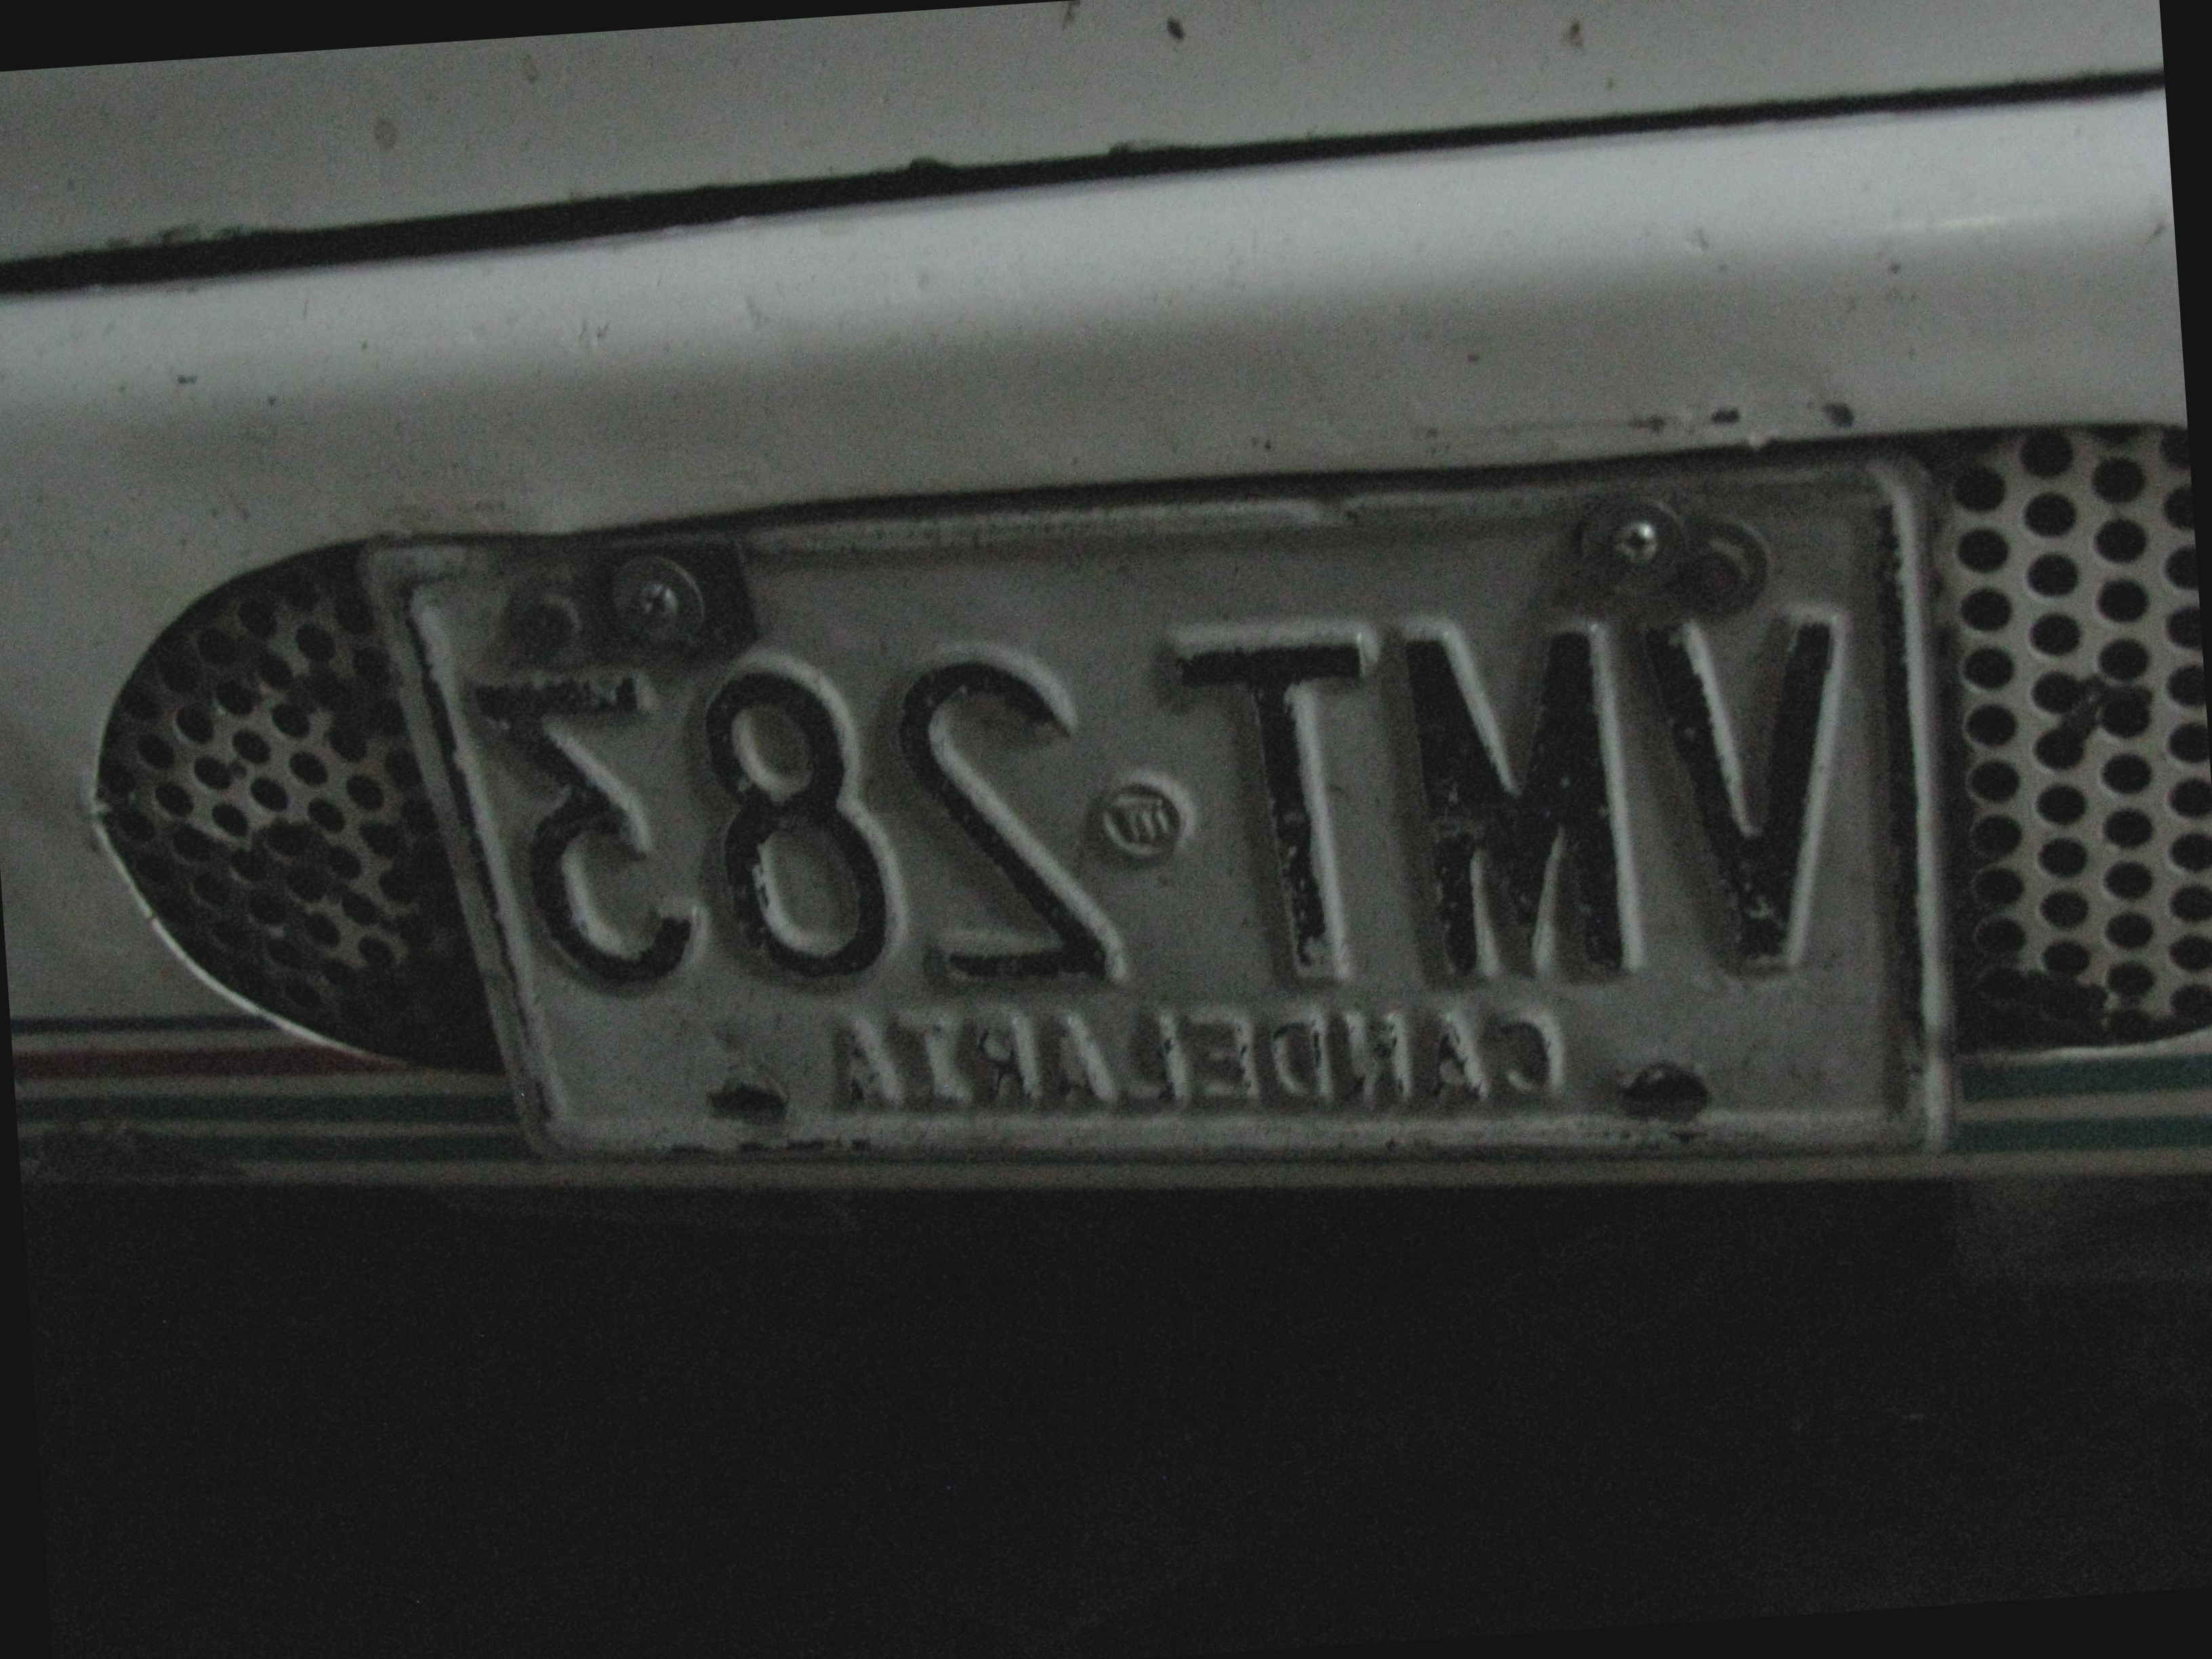placas: (363, 429, 1990, 1254)
